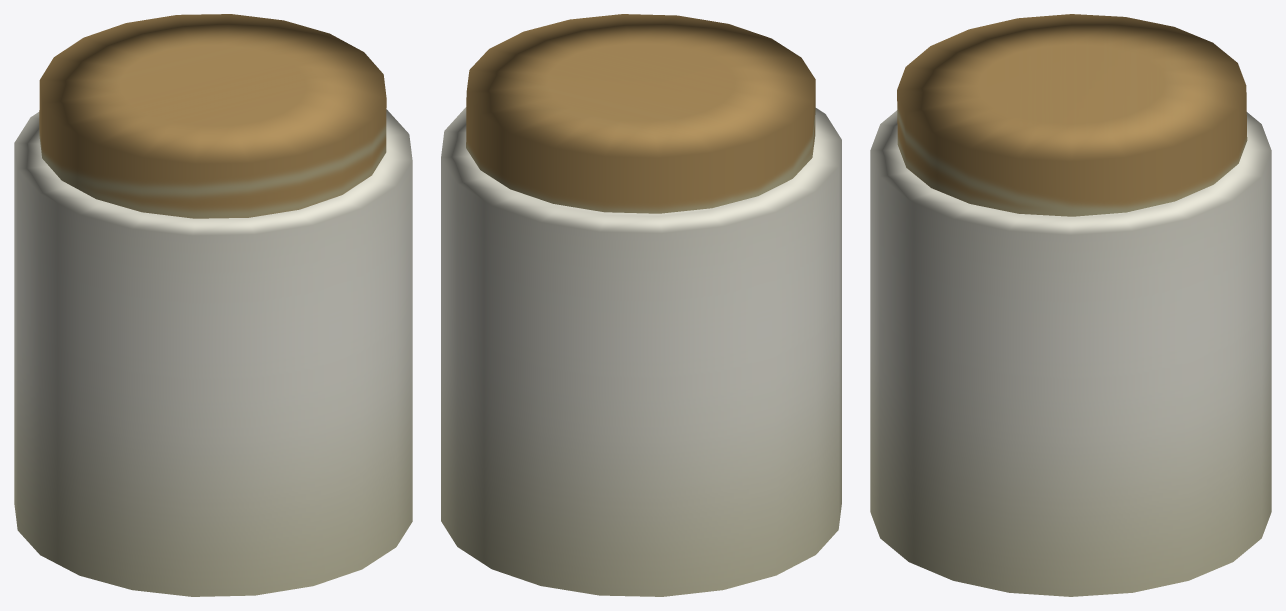
The model's file is JAR.fbx.
3 renders of one model, left to right at view 1: azimuth 30°, elevation 25°; view 2: azimuth 150°, elevation 25°; view 3: azimuth 270°, elevation 25°, orthographic.
Visible parts, largest first — view 1: book:polySurface1, book:polySurface2; view 2: book:polySurface1, book:polySurface2; view 3: book:polySurface1, book:polySurface2.
Boxes of the visible parts, x1,y1,x2,y2 form: book:polySurface1: [14, 109, 412, 596]; book:polySurface2: [39, 14, 386, 218]; book:polySurface1: [441, 107, 841, 596]; book:polySurface2: [466, 14, 815, 213]; book:polySurface1: [870, 110, 1271, 596]; book:polySurface2: [897, 14, 1247, 216].
Size of the model in its own units: 0.2278 by 0.2742 by 0.2278.
